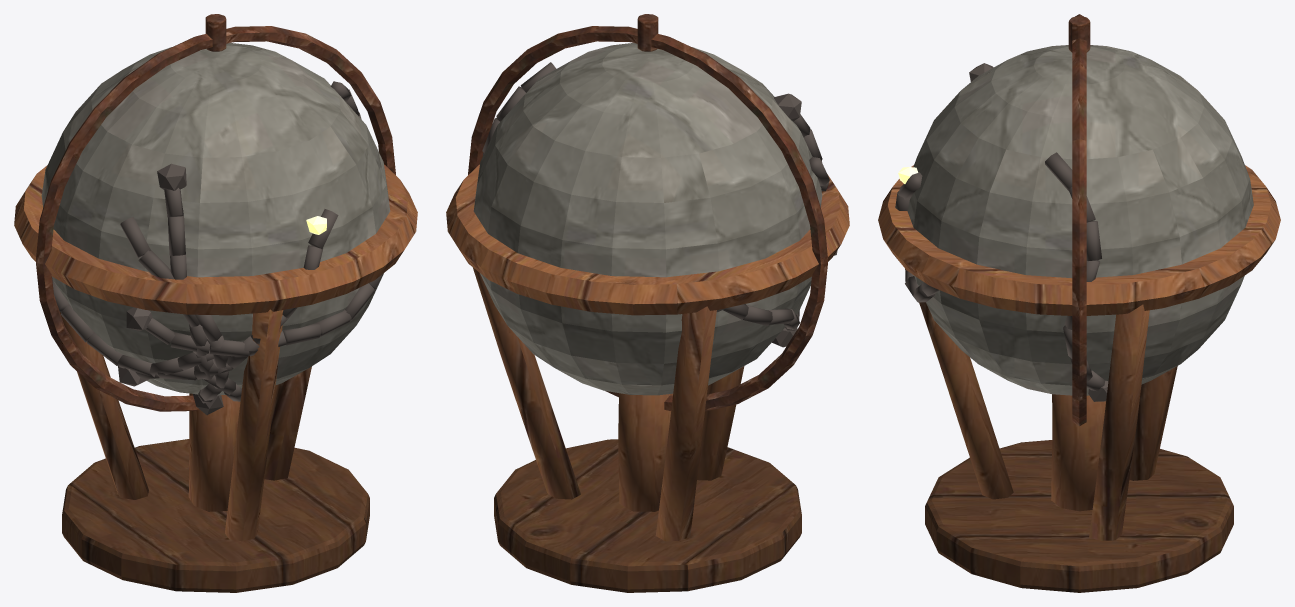
The model's file is world_stone.glb.
The picture shows the model from 3 angles, left to right: view 1: azimuth 30°, elevation 25°; view 2: azimuth 150°, elevation 25°; view 3: azimuth 270°, elevation 25°; orthographic projection.
Visible parts, largest first — view 1: model; view 2: model; view 3: model.
Part boxes in pixels (x1,y1,x2,y2): model: (14, 14, 417, 592); model: (446, 14, 849, 592); model: (878, 14, 1280, 592).
Bounding box in the file's own units: 0.75 × 1.02 × 0.73.
Materials: 7 (5 with a texture image).
